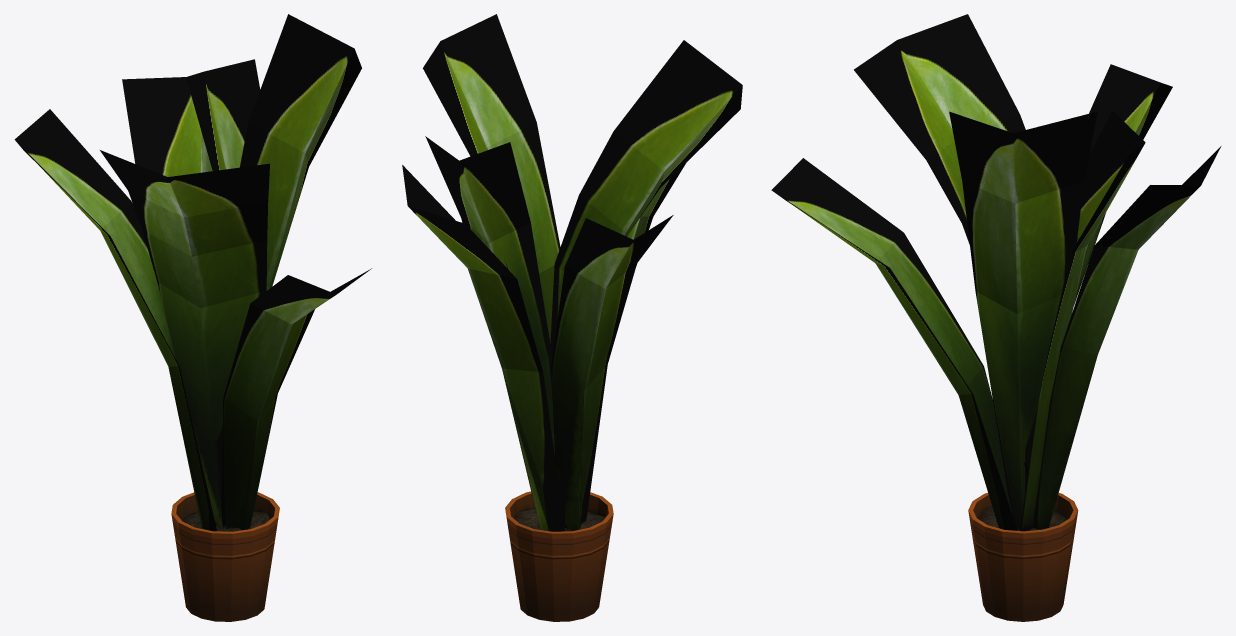
Rendered from Plant1.fbx.
3 views of the same model, side by side, from view 1: azimuth 30°, elevation 25°; view 2: azimuth 150°, elevation 25°; view 3: azimuth 270°, elevation 25° (orthographic).
Visible parts, largest first — view 1: Empty_Mesh; view 2: Empty_Mesh; view 3: Empty_Mesh.
Part boxes in pixels (<box>): Empty_Mesh: <box>14,14,371,621</box>; Empty_Mesh: <box>402,14,742,621</box>; Empty_Mesh: <box>771,14,1221,621</box>.
Bounding box in the file's own units: 69.68 × 127 × 95.85.
